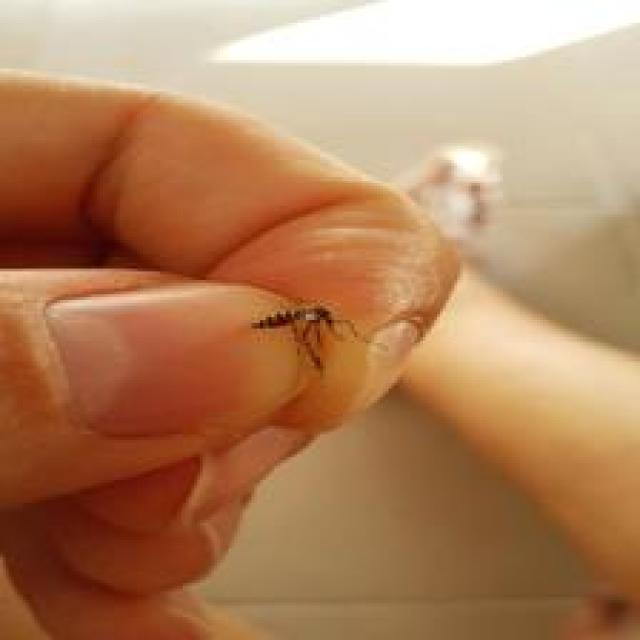Aedes albopictus: (250, 298, 361, 378)
